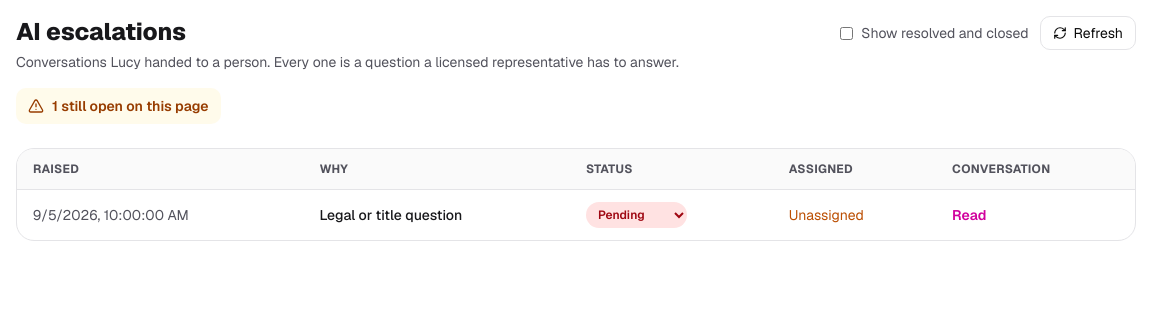
Test: hides resolved and closed by default, and can show them
Expected: the text "Legal or title question" is shown, [303,190,570,240]
Expected: the text "Pricing question" is not shown
Click the checkbox labelled "Show resolved and closed" at (847, 33), box [840,26,853,40]
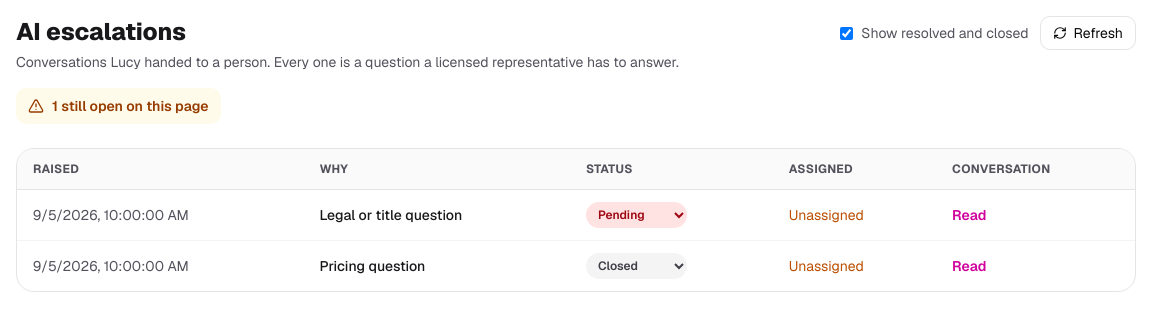
Expected: the text "Pricing question" is shown, [303,240,570,291]
